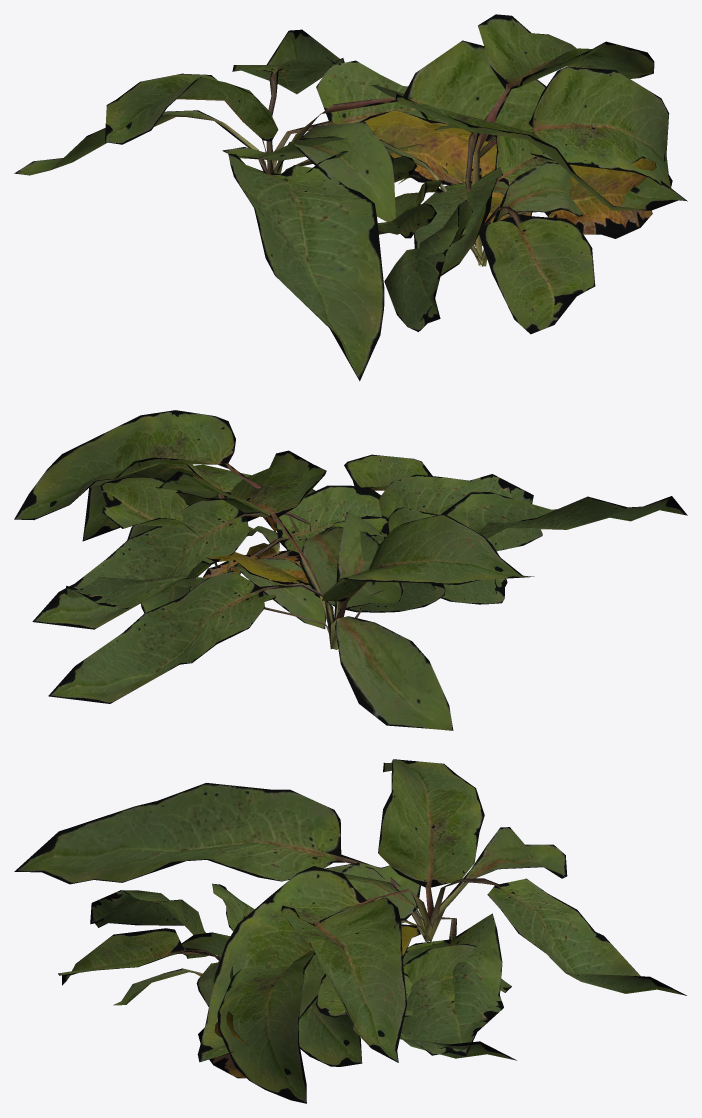
File: weed_plant_02.glb
3 views of the same model, one above another, from view 1: azimuth 30°, elevation 25°; view 2: azimuth 150°, elevation 25°; view 3: azimuth 270°, elevation 25° (orthographic). The views are drawn at different scales.
Parts seen in each view (by area): view 1: weed_plant_02_weed_plant_02_a, weed_plant_02_weed_plant_02_b, weed_plant_02_weed_plant_02_c, weed_plant_02_weed_plant_02_d, weed_plant_02_weed_plant_02_e; view 2: weed_plant_02_weed_plant_02_a, weed_plant_02_weed_plant_02_b, weed_plant_02_weed_plant_02_c, weed_plant_02_weed_plant_02_e, weed_plant_02_weed_plant_02_d; view 3: weed_plant_02_weed_plant_02_a, weed_plant_02_weed_plant_02_b, weed_plant_02_weed_plant_02_c, weed_plant_02_weed_plant_02_d.
Boxes of the visible parts, x1,y1,x2,y2 form: weed_plant_02_weed_plant_02_a: (14,29,687,381); weed_plant_02_weed_plant_02_b: (222,14,656,334); weed_plant_02_weed_plant_02_c: (371,67,672,275); weed_plant_02_weed_plant_02_d: (377,135,582,266); weed_plant_02_weed_plant_02_e: (306,151,530,238); weed_plant_02_weed_plant_02_a: (48,450,687,730); weed_plant_02_weed_plant_02_b: (14,410,542,629); weed_plant_02_weed_plant_02_c: (82,464,381,628); weed_plant_02_weed_plant_02_e: (203,515,445,612); weed_plant_02_weed_plant_02_d: (127,489,507,604); weed_plant_02_weed_plant_02_a: (14,759,686,1062); weed_plant_02_weed_plant_02_b: (58,862,516,1078); weed_plant_02_weed_plant_02_c: (181,932,511,1103); weed_plant_02_weed_plant_02_d: (113,883,362,1066).
Size of the model in its own units: 0.8644 by 0.2536 by 1.02.
Materials: 1 (1 with a texture image).
